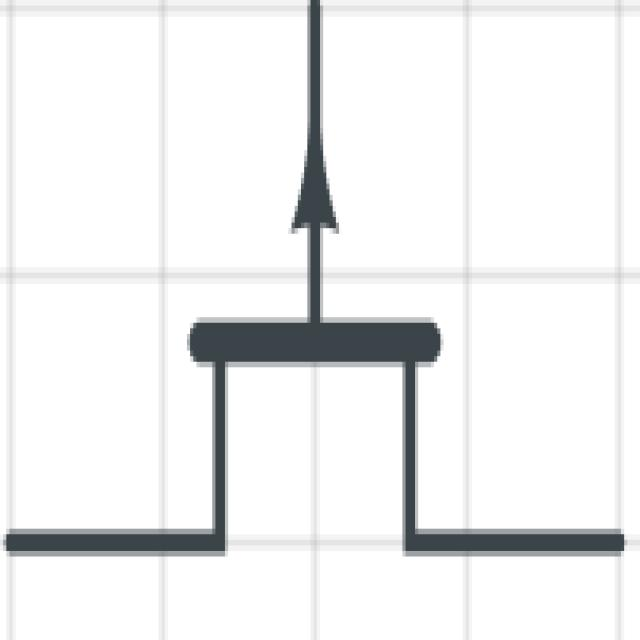nmos: (3, 0, 640, 606)
